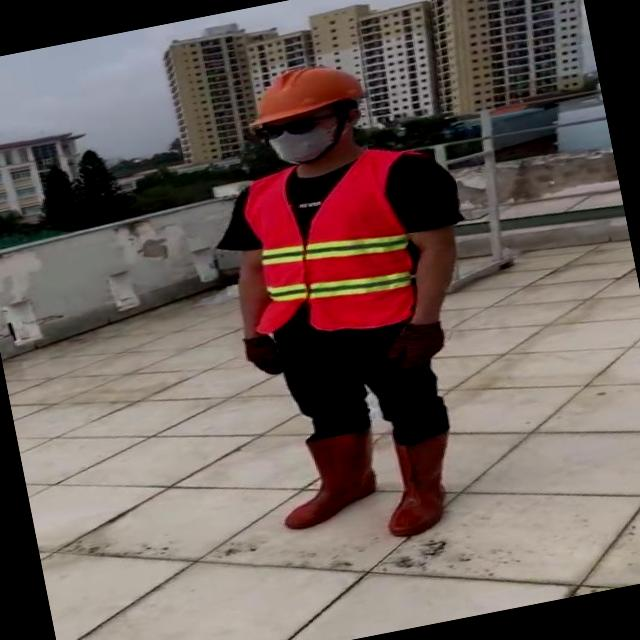boots: (272, 427, 386, 531), (370, 431, 465, 540)
helmet: (230, 45, 371, 133)
vest: (230, 148, 424, 350)
